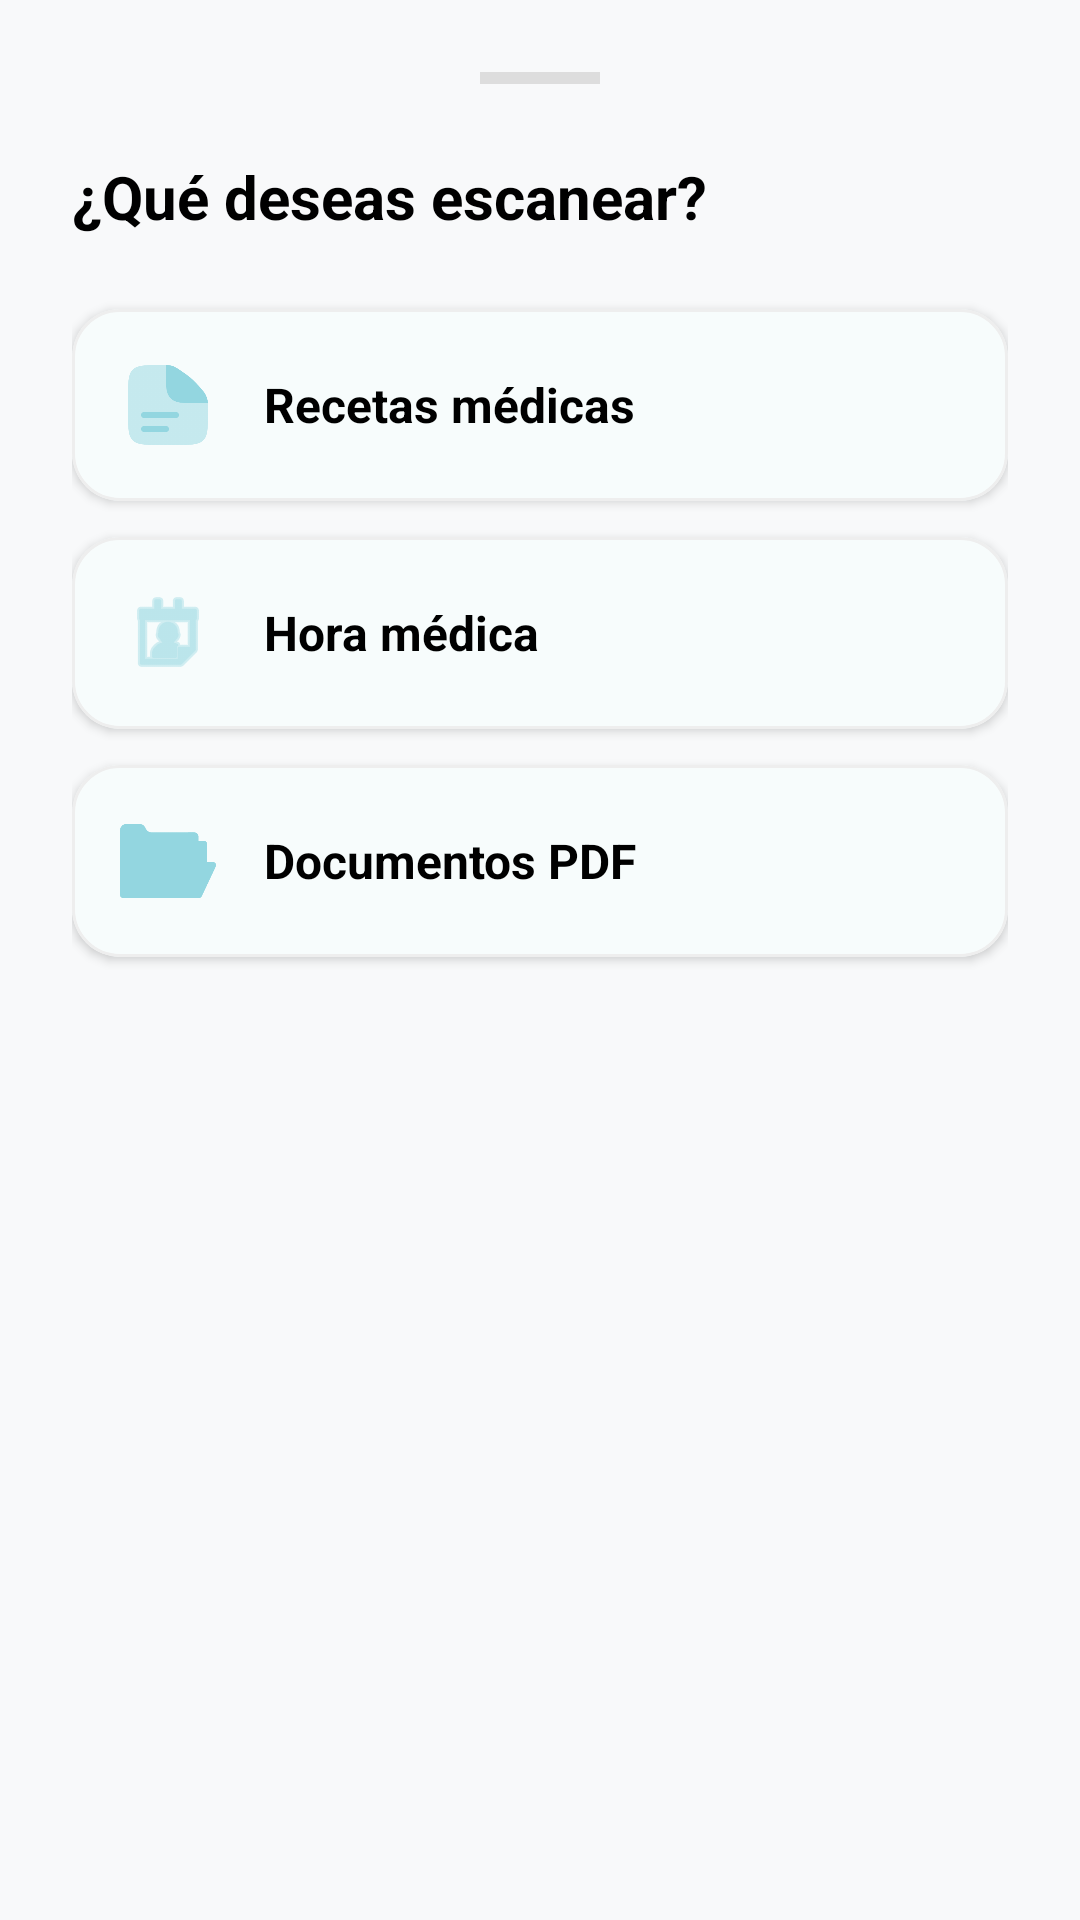

Point at icon controls on the screen. Image size 1080×1920, points as (x=x, y=y).
archivo: (x=168, y=405)
calendar: (x=168, y=632)
folder: (x=168, y=861)
